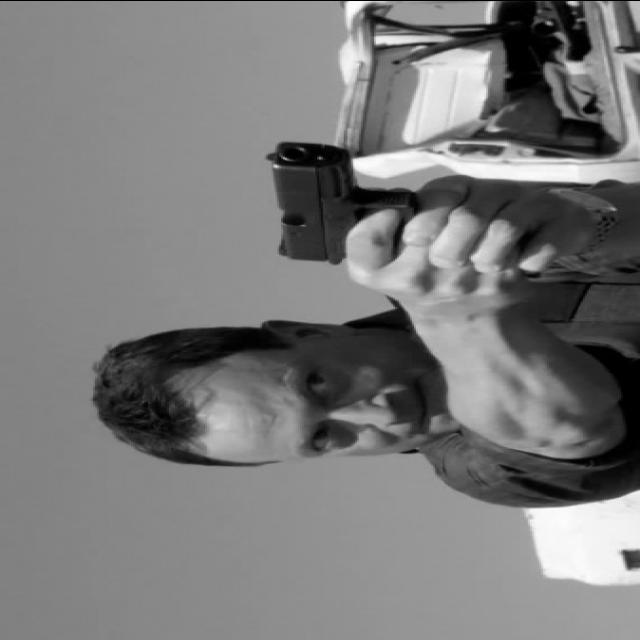weapons: (245, 136, 471, 276)
